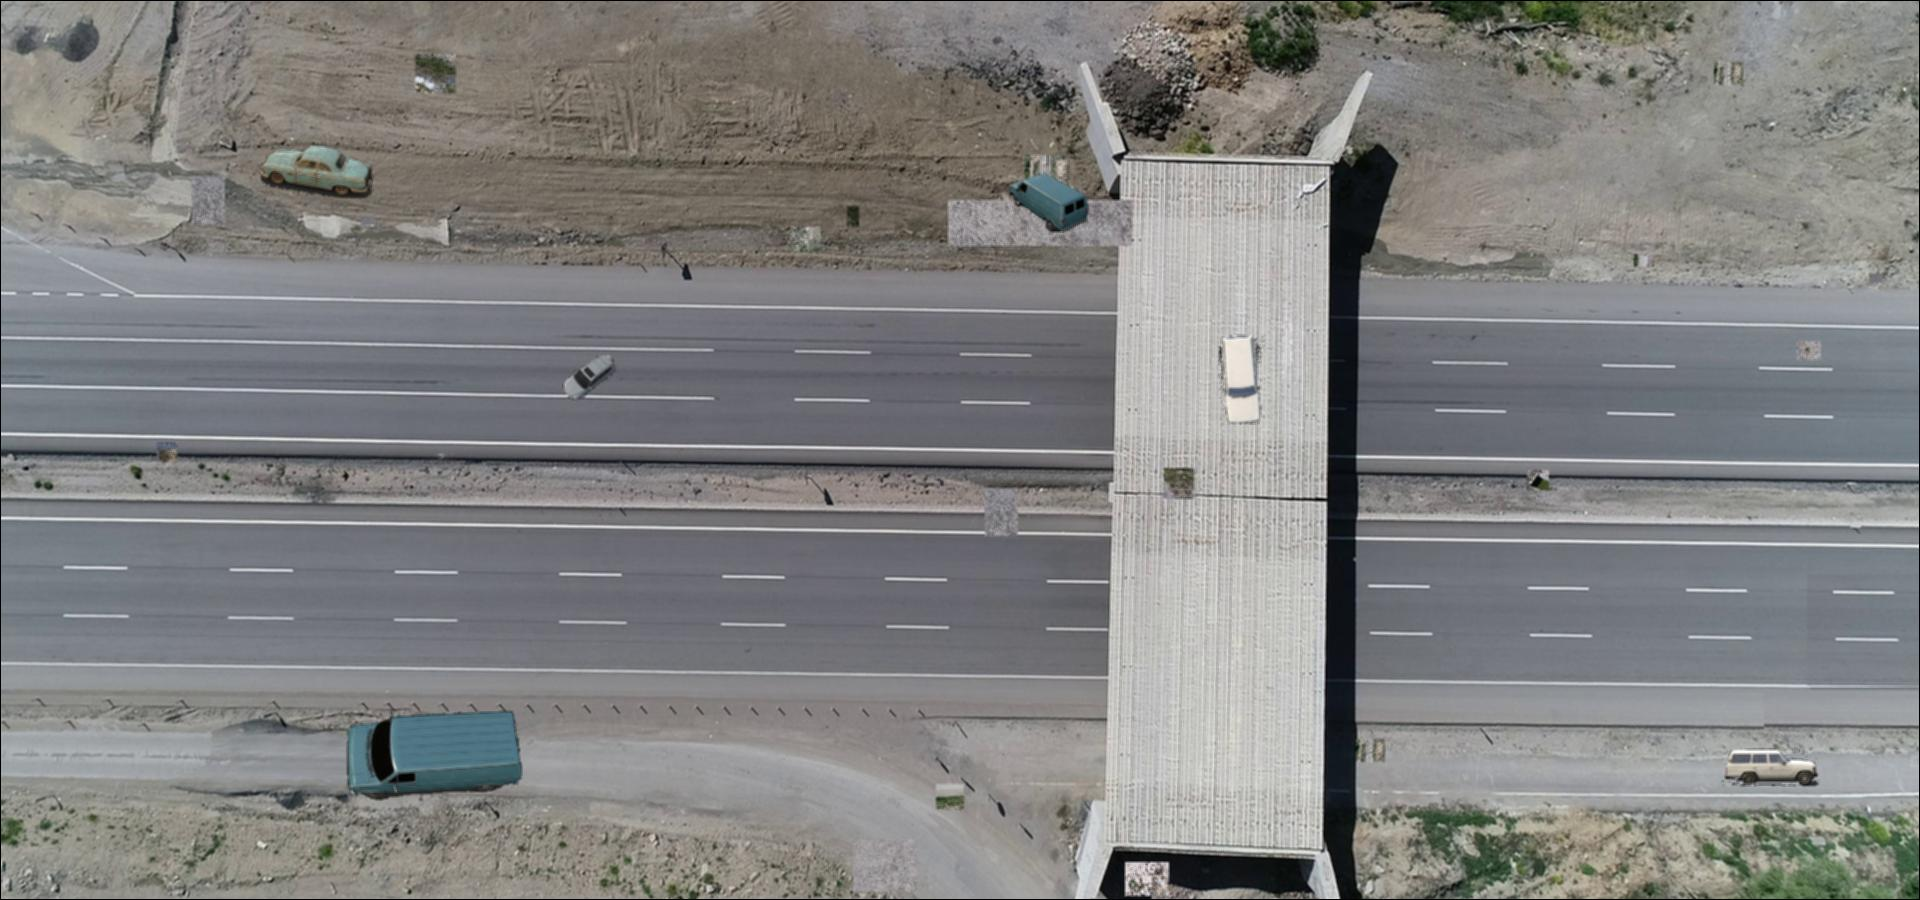arac: (344, 708, 525, 800), (260, 142, 373, 198), (1008, 171, 1089, 233), (1218, 334, 1265, 424), (1722, 748, 1820, 786), (561, 355, 616, 400)
